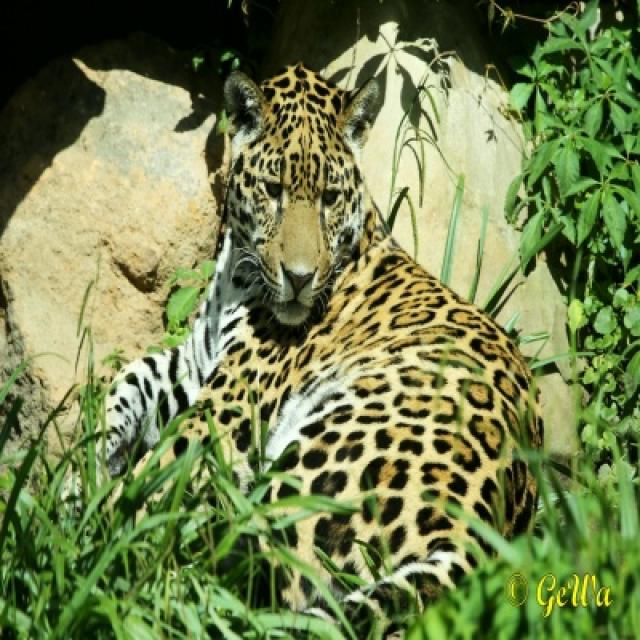not_pig: (59, 57, 546, 638)
